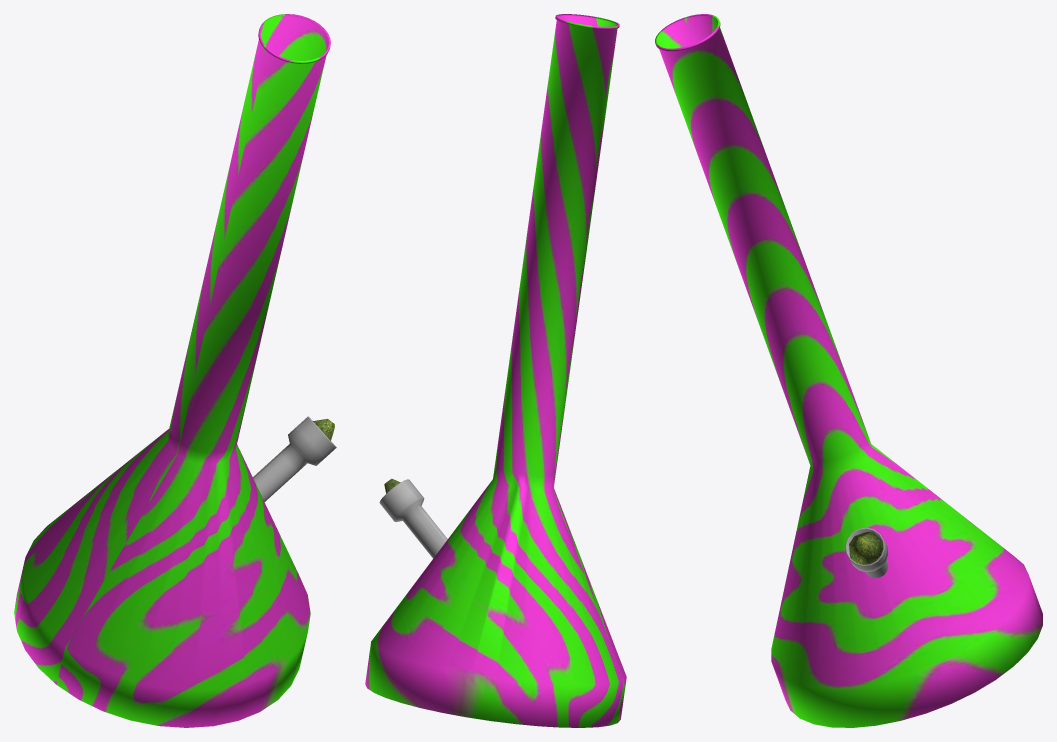
Rendered from Bong2Filled.fbx.
The picture shows the model from 3 angles, left to right: view 1: azimuth 30°, elevation 25°; view 2: azimuth 150°, elevation 25°; view 3: azimuth 270°, elevation 25°; orthographic projection. The views are drawn at different scales.
Parts seen in each view (by area): view 1: bong; view 2: bong; view 3: bong.
Part boxes in pixels (x1=…): bong: x1=14, y1=14, x2=336, y2=727; bong: x1=365, y1=14, x2=626, y2=727; bong: x1=655, y1=14, x2=1042, y2=727.
Size of the model in its own units: 0.126 by 0.3189 by 0.165.
